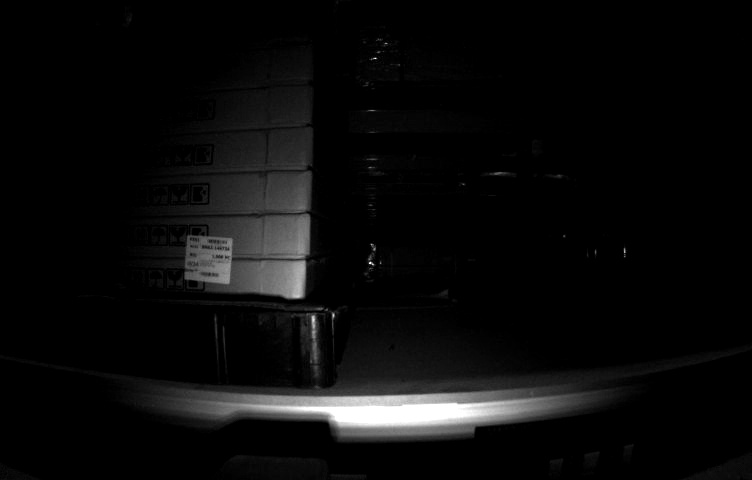True Barcode: (183, 231, 234, 288)
